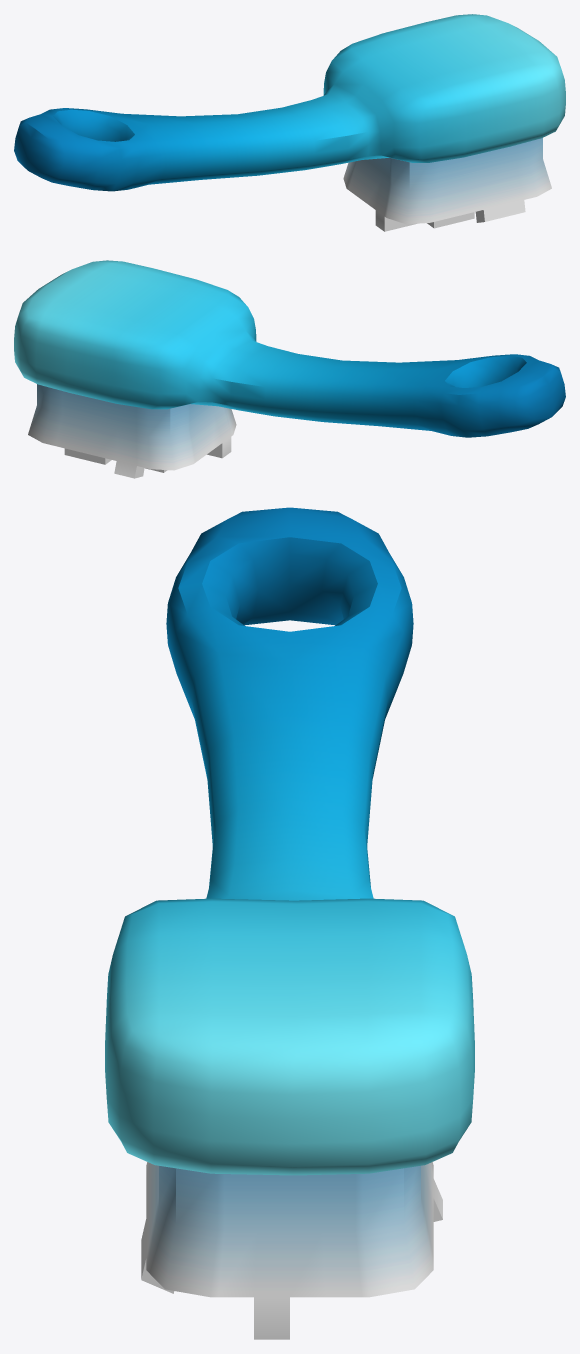
Rendered from Brush.fbx.
3 views of the same model, one above another, from view 1: azimuth 30°, elevation 25°; view 2: azimuth 150°, elevation 25°; view 3: azimuth 270°, elevation 25° (orthographic). The views are drawn at different scales.
Parts seen in each view (by area): view 1: WashBrush; view 2: WashBrush; view 3: WashBrush.
Boxes of the visible parts, x1,y1,x2,y2 form: WashBrush: (14,14,565,231); WashBrush: (14,260,565,478); WashBrush: (105,507,474,1339).
Size of the model in its own units: 1252 by 421 by 387.
